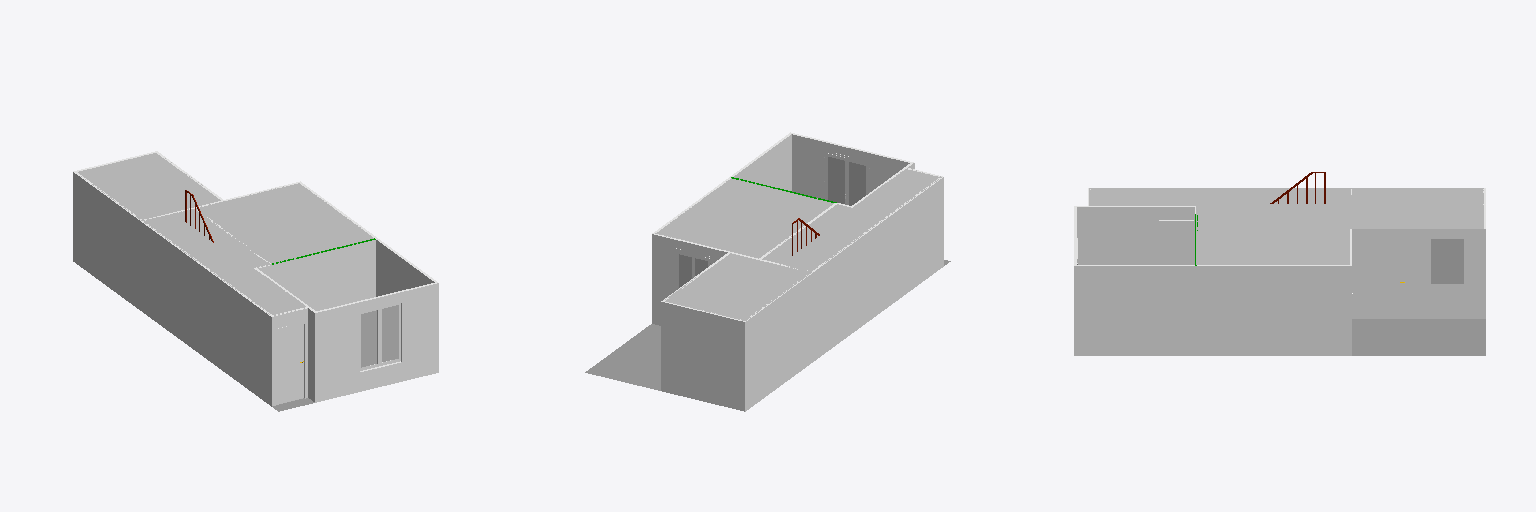
Rendered from floorplanforOBJexport.obj.
The picture shows the model from 3 angles: view 1: azimuth 30°, elevation 25°; view 2: azimuth 150°, elevation 25°; view 3: azimuth 270°, elevation 25°; orthographic projection.
Visible parts, largest first — view 1: wall_14_69, wall_10_54, room_2_188, wall_3_15, room_1_186, wall_6_33, room_5_193, Porte_102, room_4_191, wall_11_57, wall_13_63, sweethome3d_window_pane_173 (+3 smaller); view 2: wall_14_69, room_2_188, wall_1_3, wall_3_15, room_1_186, room_5_193, wall_10_51, ground_1, wall_4_21, room_4_191, wall_11_57, sweethome3d_window_pane_173 (+1 smaller); view 3: wall_5_27, wall_11_60, room_2_188, wall_2_9, room_1_186, ground_1, wall_17_87, room_5_193, Porte_127, room_4_191, sweethome3d_window_pane_122, wall_14_72 (+1 smaller).
Boxes of the visible parts, x1,y1,x2,y2 form: wall_14_69: [141, 222, 271, 406]; wall_10_54: [315, 283, 438, 402]; room_2_188: [196, 183, 373, 264]; wall_3_15: [73, 172, 140, 310]; room_1_186: [78, 153, 220, 220]; wall_6_33: [271, 240, 375, 310]; room_5_193: [144, 209, 269, 276]; Porte_102: [279, 325, 303, 403]; room_4_191: [220, 269, 305, 315]; wall_11_57: [376, 240, 434, 296]; wall_13_63: [272, 308, 307, 405]; sweethome3d_window_pane_173: [382, 305, 398, 361]; wall_14_69: [813, 177, 943, 361]; room_2_188: [655, 178, 833, 258]; wall_1_3: [661, 302, 744, 411]; wall_3_15: [745, 272, 813, 411]; room_1_186: [665, 253, 811, 320]; room_5_193: [762, 204, 888, 271]; wall_10_51: [792, 134, 909, 198]; ground_1: [585, 260, 950, 390]; wall_4_21: [652, 234, 727, 325]; room_4_191: [854, 168, 941, 215]; wall_11_57: [734, 134, 791, 190]; sweethome3d_window_pane_173: [828, 157, 844, 203]; wall_5_27: [1195, 266, 1351, 355]; wall_11_60: [1074, 266, 1195, 355]; room_2_188: [1196, 214, 1349, 264]; wall_2_9: [1352, 229, 1485, 318]; room_1_186: [1350, 188, 1483, 228]; ground_1: [1352, 319, 1485, 355]; wall_17_87: [1090, 207, 1194, 264]; room_5_193: [1196, 188, 1349, 213]; Porte_127: [1375, 244, 1406, 318]; room_4_191: [1089, 188, 1195, 205]; sweethome3d_window_pane_122: [1431, 239, 1463, 283]; wall_14_72: [1161, 223, 1191, 264].
Size of the model in its own units: 457 by 331 by 1015.